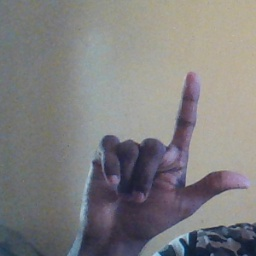L: (72, 70, 252, 239)
